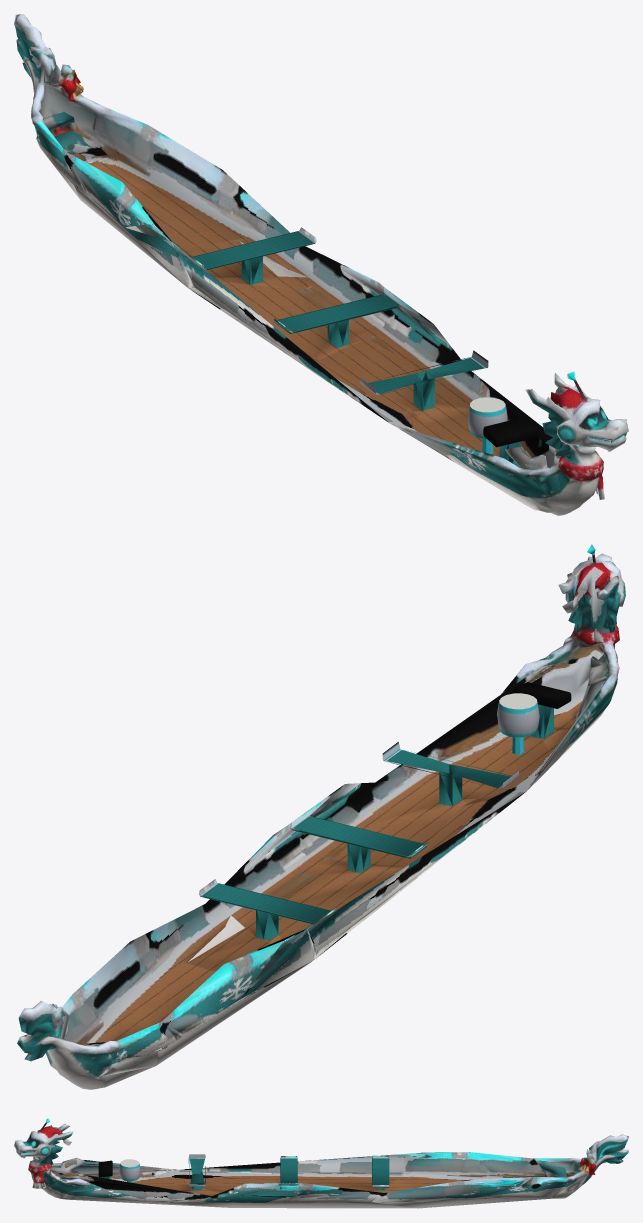
Rendered from Boat_Robot.glb.
3 views of the same model, one above another, from view 1: azimuth 30°, elevation 25°; view 2: azimuth 150°, elevation 25°; view 3: azimuth 270°, elevation 25° (orthographic). The views are drawn at different scales.
Parts seen in each view (by area): view 1: Boat_Robot, Drum; view 2: Boat_Robot, Drum; view 3: Boat_Robot, Drum.
Part boxes in pixels (box(x1,y1,x2,y2)): Boat_Robot: box(14, 14, 628, 515); Drum: box(467, 397, 507, 454); Boat_Robot: box(17, 544, 625, 1089); Drum: box(497, 693, 539, 754); Boat_Robot: box(14, 1118, 628, 1208); Drum: box(119, 1159, 140, 1182).
Size of what is drawn, in the model's own units: 1.36 by 1.65 by 11.4.
1 material, 1 textured.
